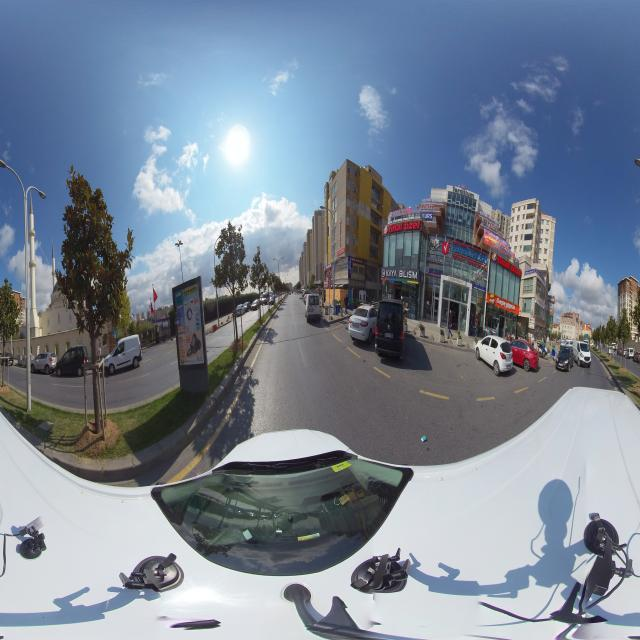SignStore: (492, 251, 522, 277), (489, 293, 519, 313), (384, 219, 421, 235), (381, 268, 418, 282), (537, 269, 546, 284), (351, 258, 364, 265), (525, 268, 536, 275), (324, 281, 328, 286)
